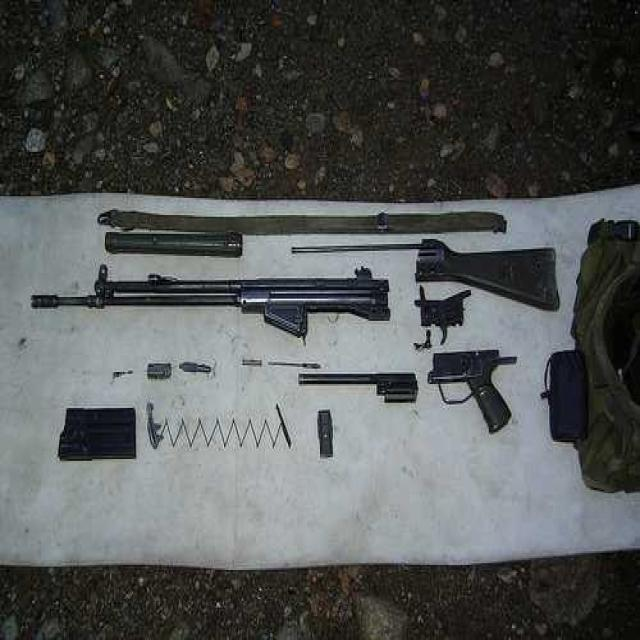heavyweapon: (15, 209, 577, 344)
